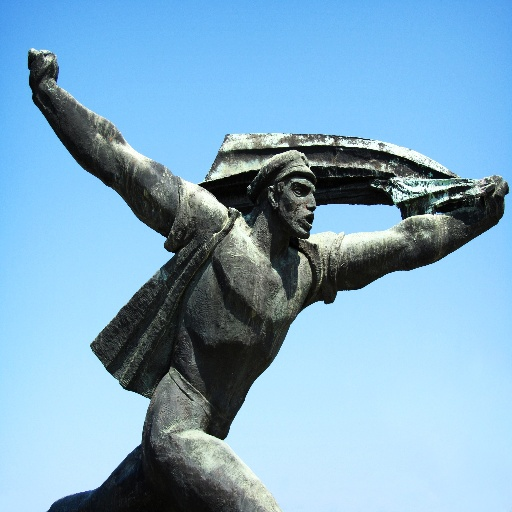hand: (469, 174, 510, 226), (25, 46, 60, 90)
